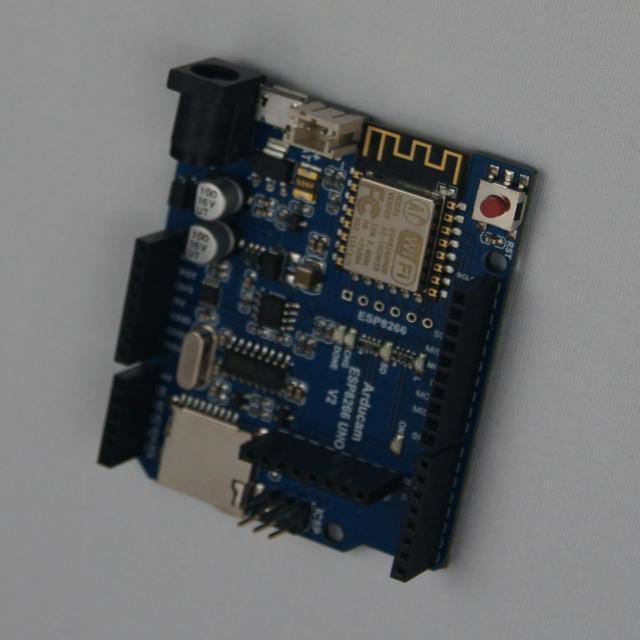Arduino Uno Camera Shield: (99, 60, 535, 582)
